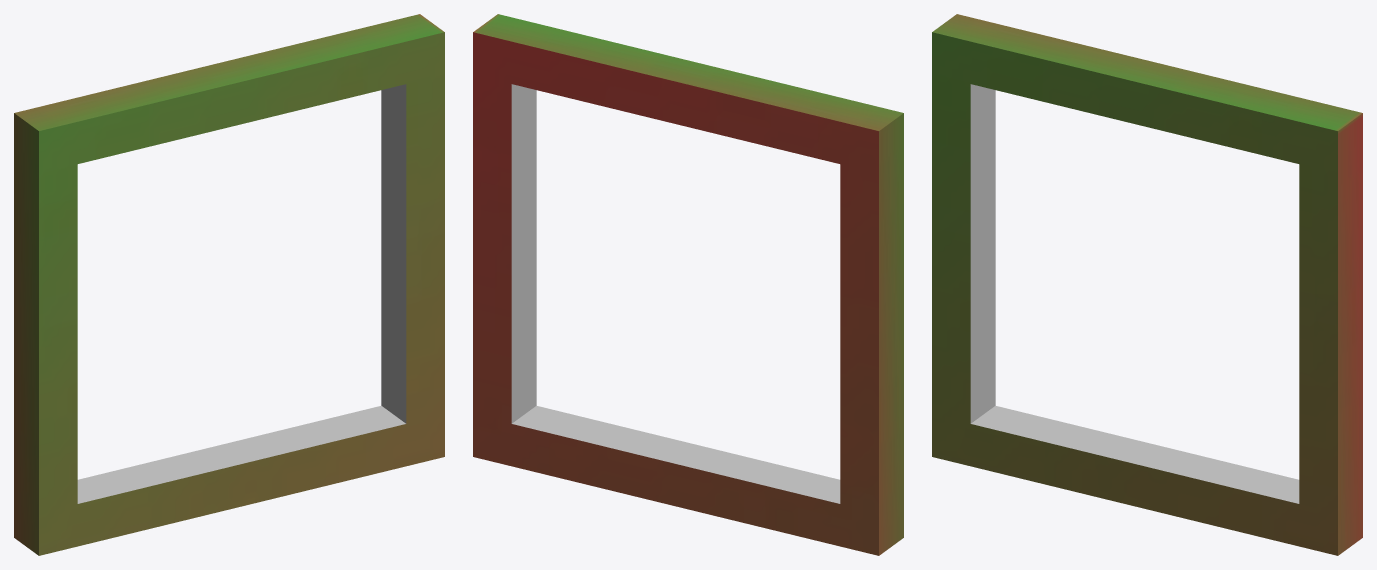
Rendered from reticle_normal.obj.
3 views of the same model, side by side, from view 1: azimuth 30°, elevation 25°; view 2: azimuth 150°, elevation 25°; view 3: azimuth 330°, elevation 25° (orthographic).
Visible parts, largest first — view 1: Cube.001; view 2: Cube.001; view 3: Cube.001.
Boxes of the visible parts, x1,y1,x2,y2 form: Cube.001: [14, 14, 444, 555]; Cube.001: [473, 14, 903, 555]; Cube.001: [932, 14, 1362, 555].
Size of the model in its own units: 1.32 by 1.32 by 0.14.
2 materials, 1 textured.
